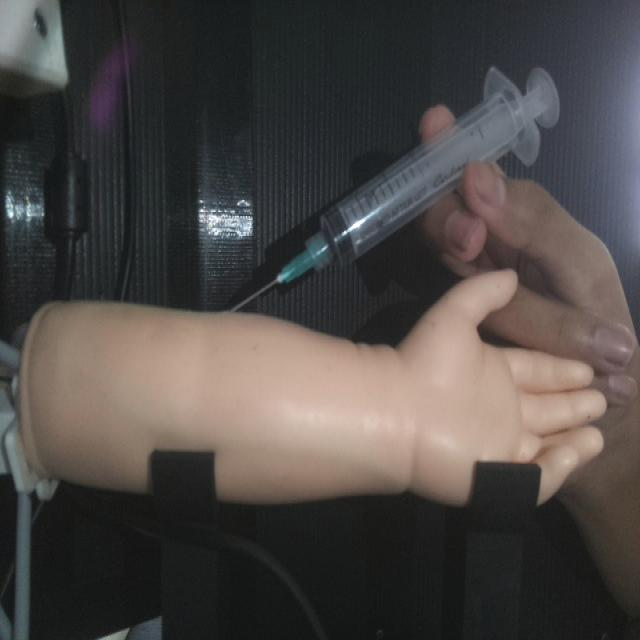Above 30 degrees: (224, 62, 561, 314)
